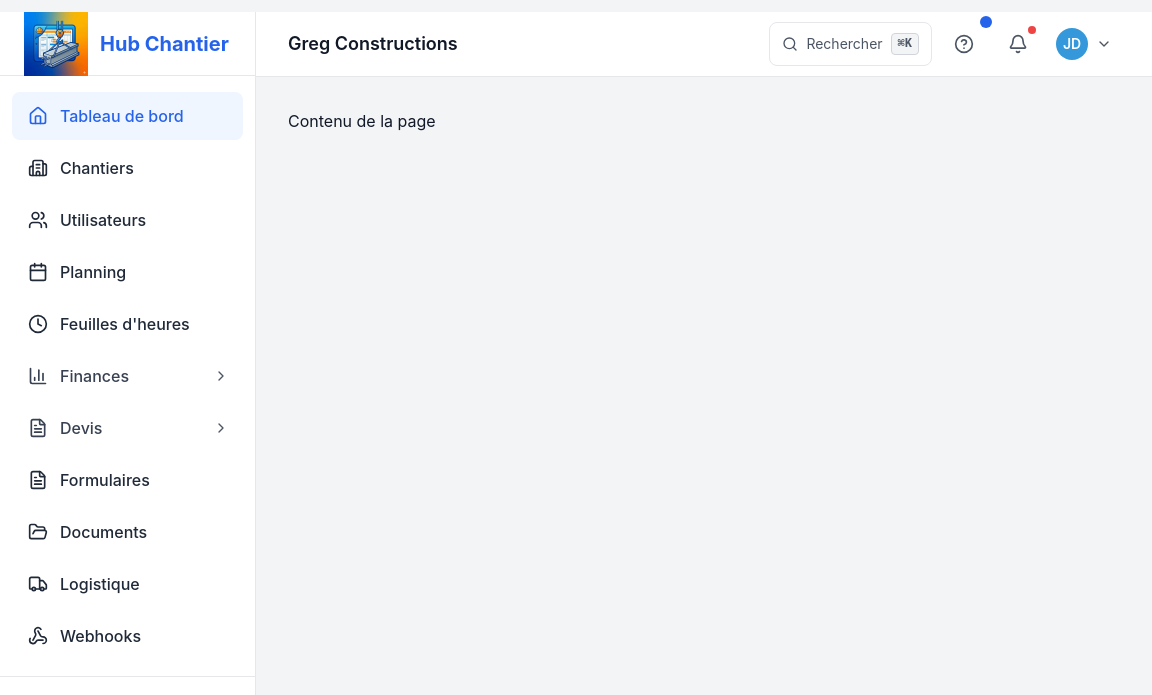
Test case: Layout › Menu utilisateur › ouvre le menu utilisateur au clic
Click the button with aria-label "Menu utilisateur". click: (1084, 44)
box: [1048,22,1120,66]
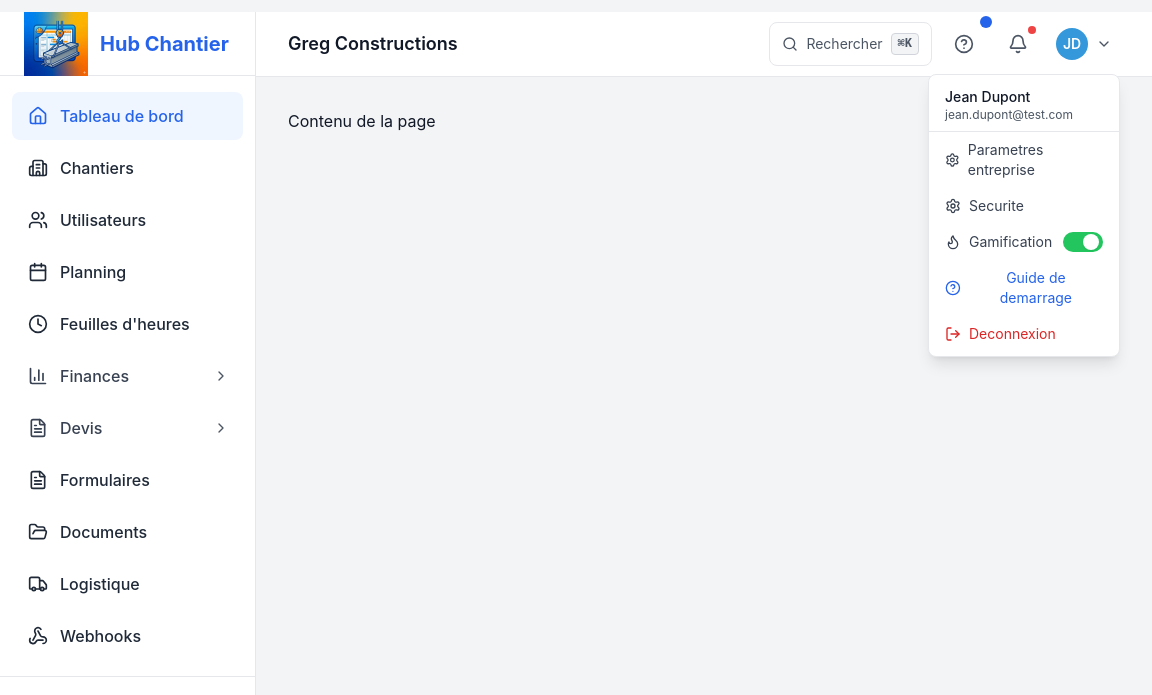
Expected: the text "jean.dupont@test.com" is shown, [945,107,1073,122]
Expected: the link "Parametres entreprise" is shown, [945,141,1043,178]
Expected: the button "Deconnexion" is shown, [929,316,1119,352]
